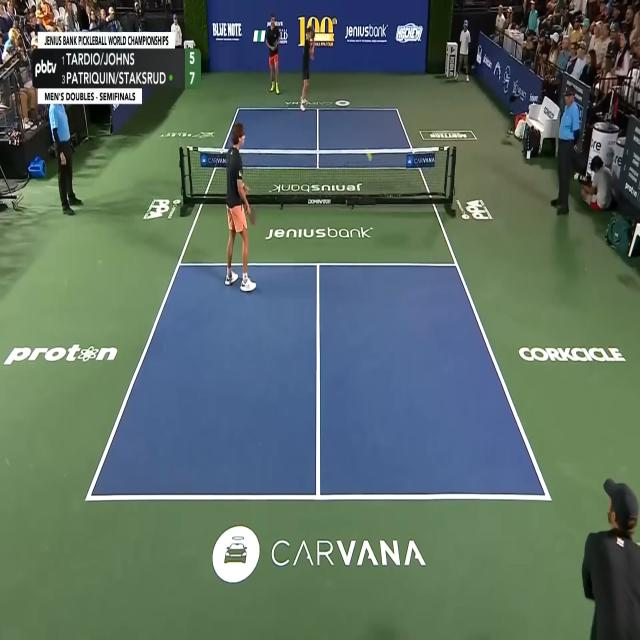ball: (368, 152, 372, 162)
